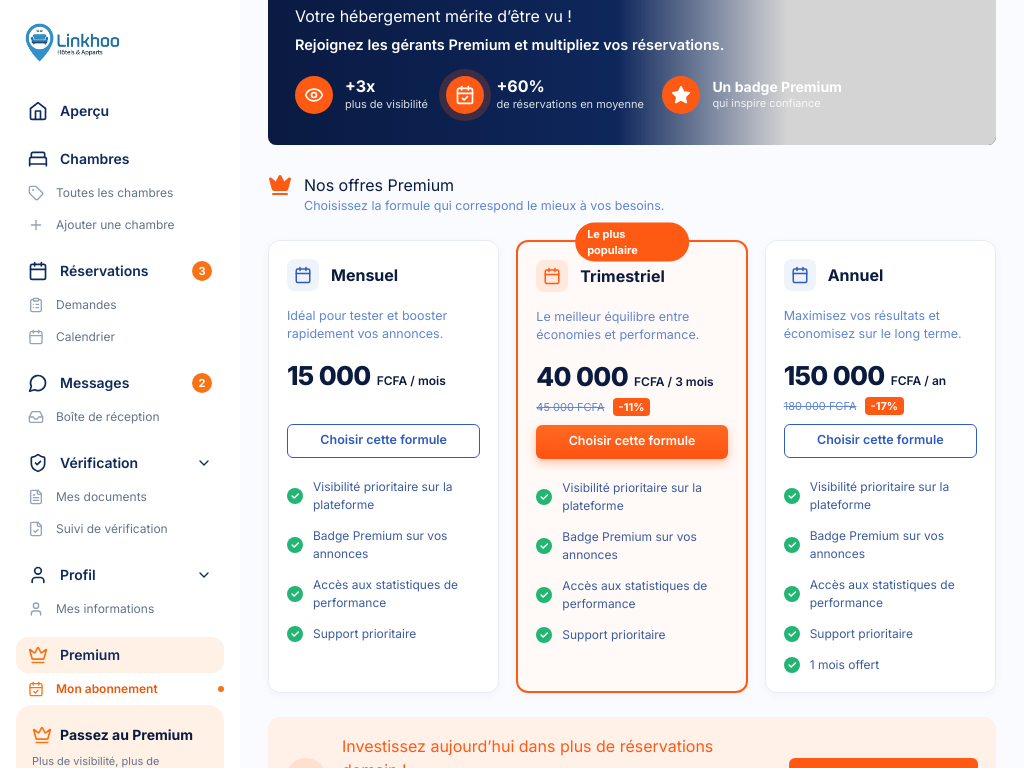
Test: PremiumPage › affiche le message d’erreur renvoyé par le service de paiement
The image size is (1024, 768).
(page scrolled)
Click the button "Choisir cette formule" below "15 000".
click(384, 441)  # box 287,424 -> 480,458
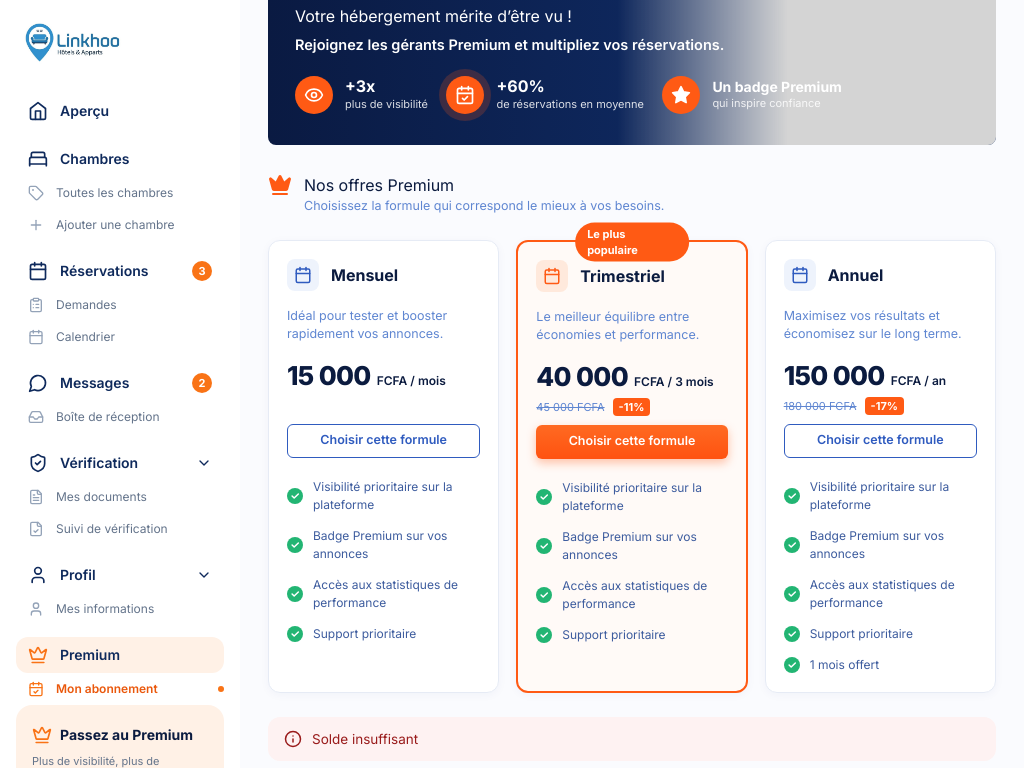
Now the text "Solde insuffisant" is shown, box 268,717 -> 996,761
